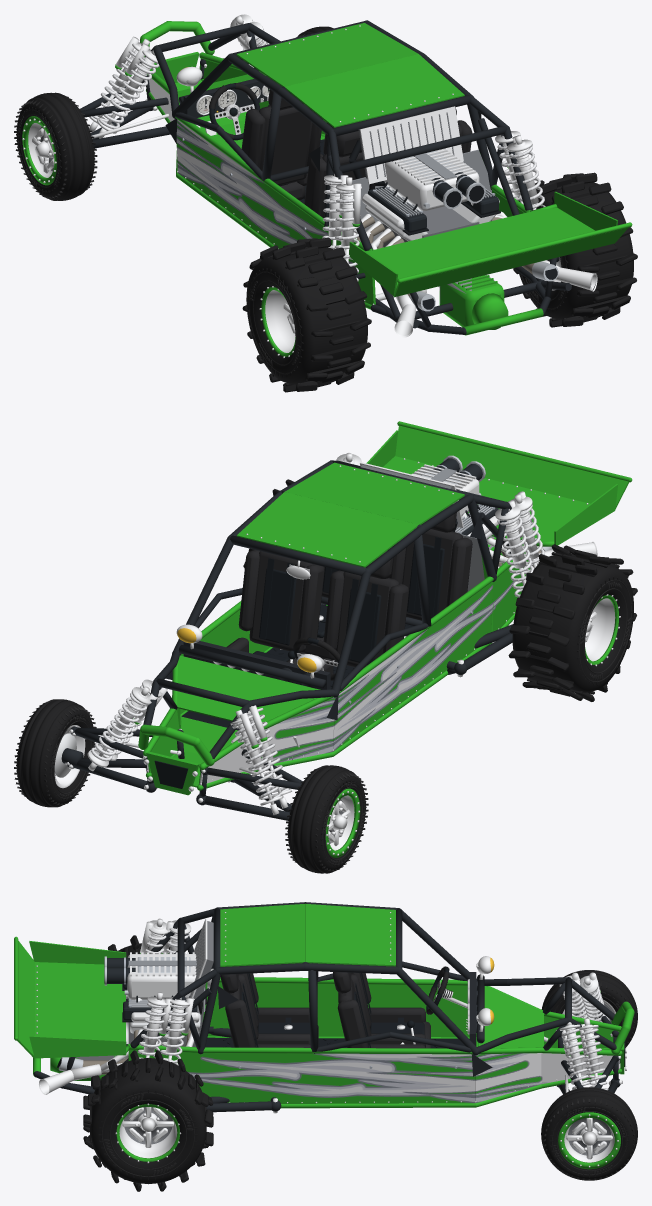
File: sandcar.glb
3 renders of one model, top to bottom at view 1: azimuth 30°, elevation 25°; view 2: azimuth 150°, elevation 25°; view 3: azimuth 270°, elevation 25°, orthographic. The views are drawn at different scales.
Visible parts, largest first — view 1: Chassis_Mesh, Wheel_RL_Mesh, Wheel_RR_Mesh, Wheel_FL_Mesh, Shock_FL_Mesh, Shock_RL_2_Mesh, Shock_RR_2_Mesh, Shock_FL_2_Mesh, SteeringWheel_Mesh, Shock_RL_Mesh, Link_FL_Lower_0, Shock_RR_Mesh (+1 smaller); view 2: Chassis_Mesh, Wheel_RL_Mesh, Wheel_FL_Mesh, Wheel_FR_Mesh, Shock_FR_2_Mesh, Shock_RL_Mesh, Shock_FL_2_Mesh, Shock_FL_Mesh, Shock_RL_2_Mesh, Link_FL_Lower_2, Link_FR_Lower_2, Link_RL_Lower_2 (+1 smaller); view 3: Chassis_Mesh, Wheel_RR_Mesh, Wheel_FR_Mesh, Wheel_FL_Mesh, Shock_RR_2_Mesh, Shock_RR_Mesh, Shock_FR_2_Mesh, Shock_FR_Mesh, Link_RR_Lower_2, Shock_RL_2_Mesh, Shock_FL_2_Mesh, SteeringWheel_Mesh (+2 smaller).
Part boxes in pixels (box(x1,y1,x2,y2)): Chassis_Mesh: box(140, 20, 632, 337); Wheel_RL_Mesh: box(242, 237, 371, 392); Wheel_RR_Mesh: box(513, 172, 637, 327); Wheel_FL_Mesh: box(14, 92, 97, 200); Shock_FL_Mesh: box(96, 43, 159, 138); Shock_RL_2_Mesh: box(334, 177, 361, 281); Shock_RR_2_Mesh: box(507, 135, 545, 210); Shock_FL_2_Mesh: box(89, 36, 150, 132); SteeringWheel_Mesh: box(209, 83, 260, 140); Shock_RL_Mesh: box(322, 174, 348, 253); Link_FL_Lower_0: box(92, 126, 170, 148); Shock_RR_Mesh: box(495, 131, 523, 204); Chassis_Mesh: box(138, 421, 632, 796); Wheel_RL_Mesh: box(508, 544, 637, 701); Wheel_FL_Mesh: box(285, 765, 368, 873); Wheel_FR_Mesh: box(14, 699, 96, 807); Shock_FR_2_Mesh: box(87, 686, 157, 771); Shock_RL_Mesh: box(495, 500, 533, 597); Shock_FL_2_Mesh: box(230, 710, 282, 814); Shock_FL_Mesh: box(247, 705, 291, 808); Shock_RL_2_Mesh: box(511, 491, 544, 575); Link_FL_Lower_2: box(196, 794, 289, 820); Link_FR_Lower_2: box(65, 760, 157, 792); Link_RL_Lower_2: box(454, 632, 512, 677); Chassis_Mesh: box(14, 902, 634, 1108); Wheel_RR_Mesh: box(83, 1050, 213, 1191); Wheel_FR_Mesh: box(541, 1087, 637, 1180); Wheel_FL_Mesh: box(541, 970, 637, 1047); Shock_RR_2_Mesh: box(137, 992, 172, 1058); Shock_RR_Mesh: box(160, 997, 193, 1065); Shock_FR_2_Mesh: box(578, 1018, 608, 1090); Shock_FR_Mesh: box(559, 1022, 590, 1089); Link_RR_Lower_2: box(206, 1098, 281, 1113); Shock_RL_2_Mesh: box(140, 918, 168, 953); Shock_FL_2_Mesh: box(579, 972, 608, 1022); SteeringWheel_Mesh: box(426, 966, 453, 1014).
Size of the model in its own units: 2.59 by 1.6 by 4.77.
Materials: 26 (2 with a texture image).
